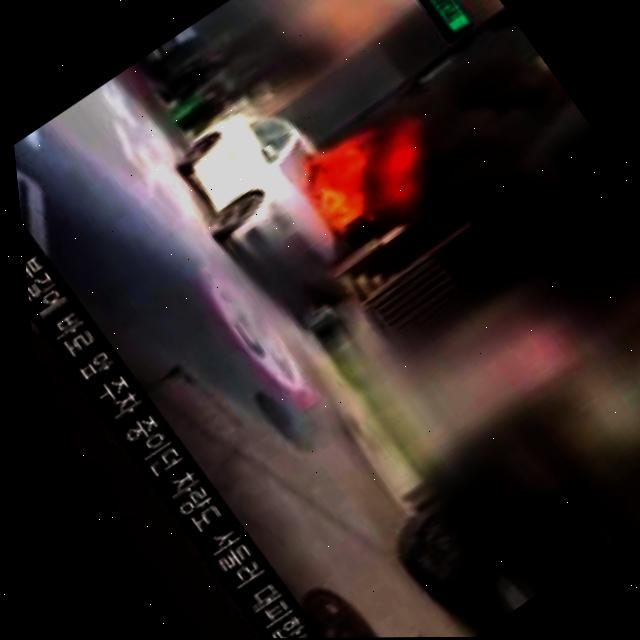Fire: (281, 110, 433, 245)
Smoke: (345, 7, 640, 292)
